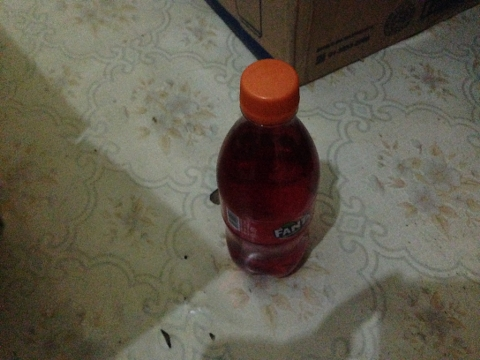tempat minum: (216, 59, 321, 278)
